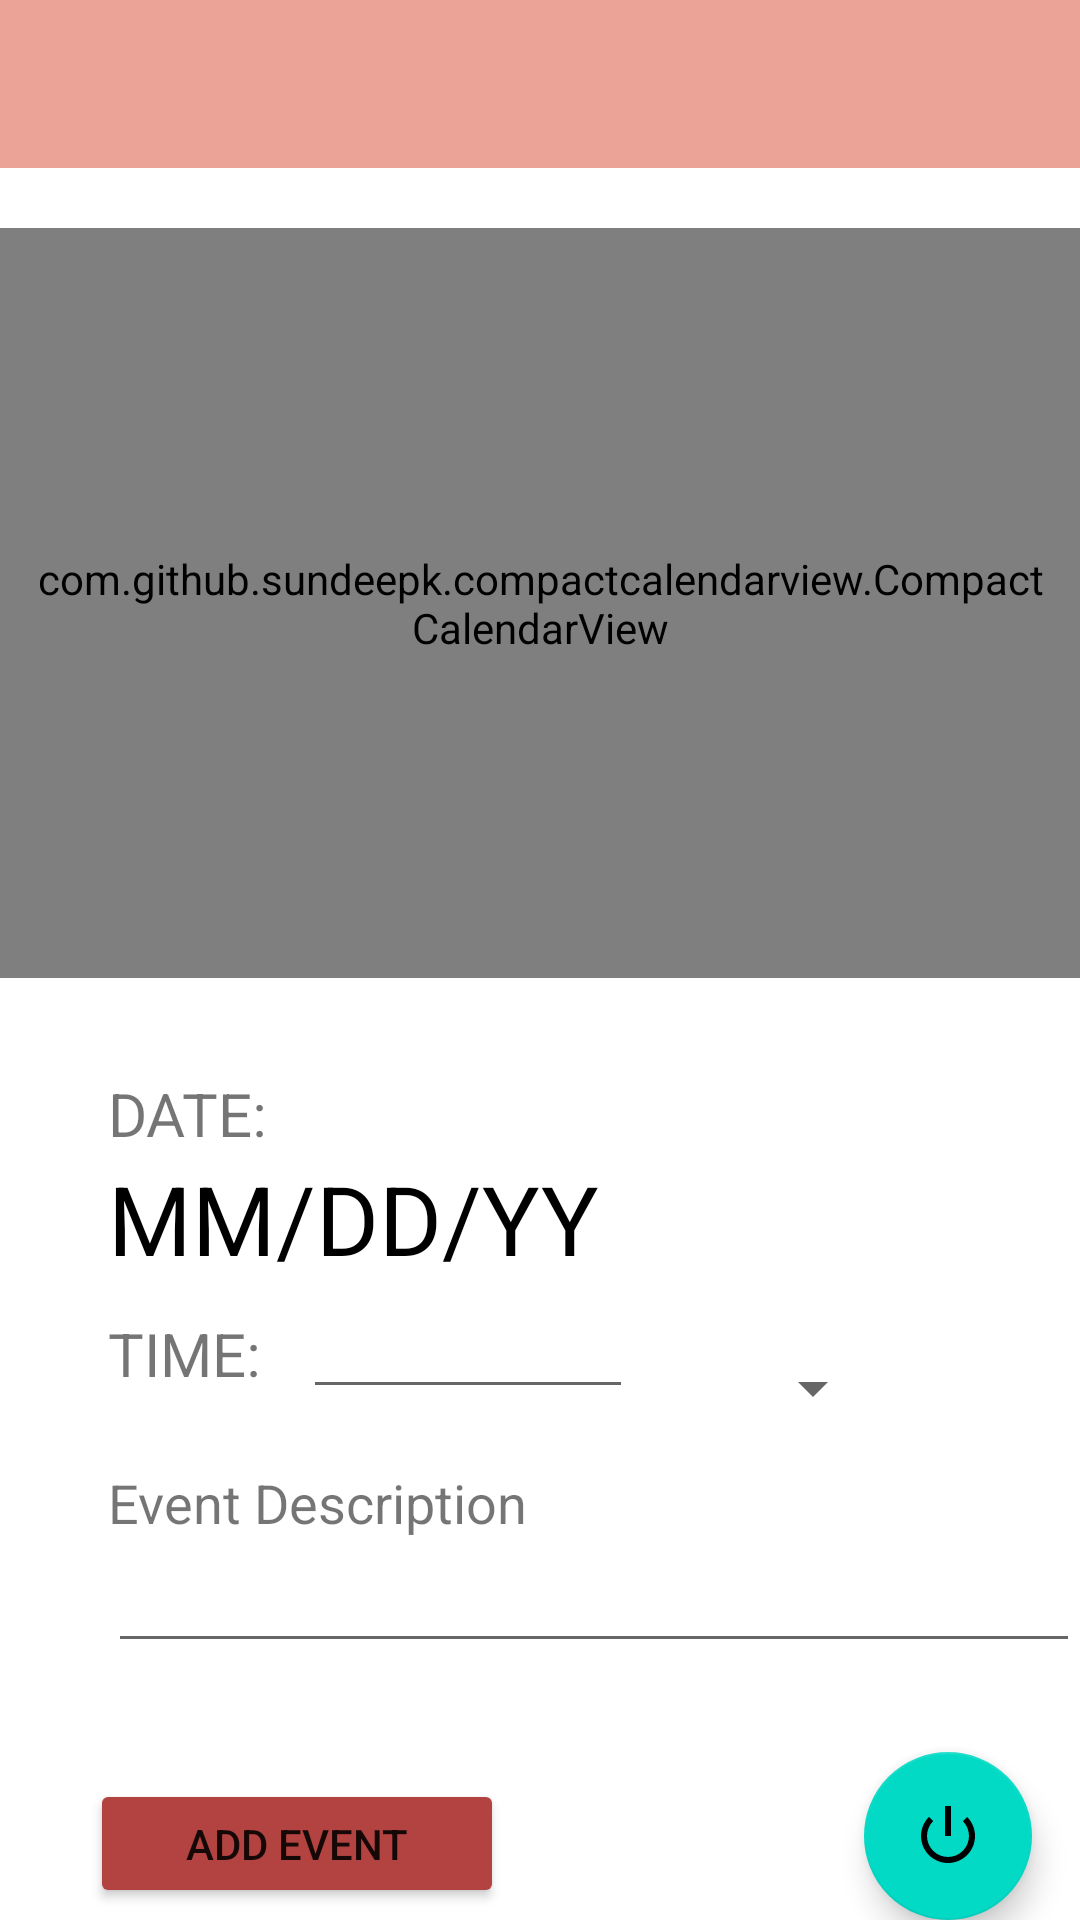

Screen size 1080x1920. Icon name, then its box in pixels as [left=x1, top=y1, right=x2, bottom=y2]:
lock power off: [left=864, top=1752, right=1032, bottom=1920]
